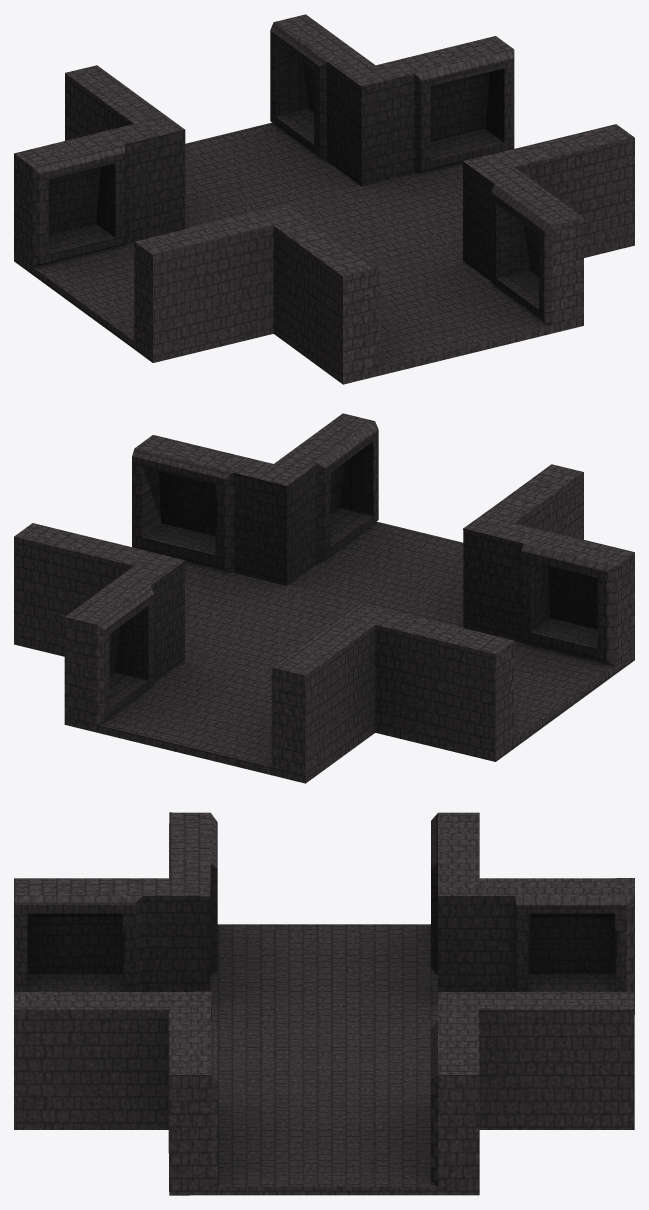
File: Irb_CryptQuad.obj
3 views of the same model, one above another, from view 1: azimuth 30°, elevation 25°; view 2: azimuth 150°, elevation 25°; view 3: azimuth 270°, elevation 25° (orthographic). The views are drawn at different scales.
Visible parts, largest first — view 1: Crypt; view 2: Crypt; view 3: Crypt.
Part boxes in pixels (x1,y1,x2,y2): Crypt: [14, 14, 634, 384]; Crypt: [14, 413, 634, 783]; Crypt: [14, 812, 634, 1195].
Bounding box in the file's own units: 1024 × 219 × 1024.
1 material, 1 textured.
